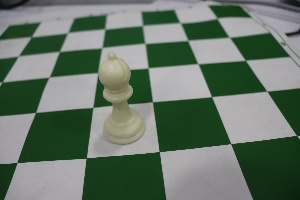white_bishop: (87, 38, 153, 147)
